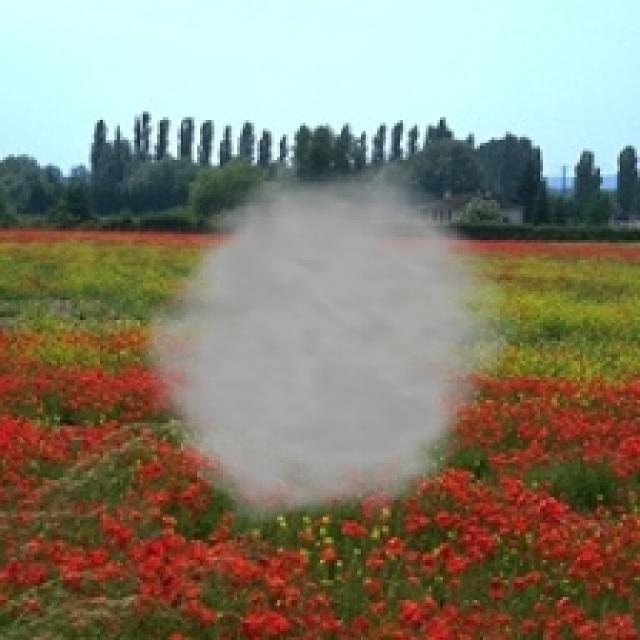Smoke: (128, 157, 528, 540)
